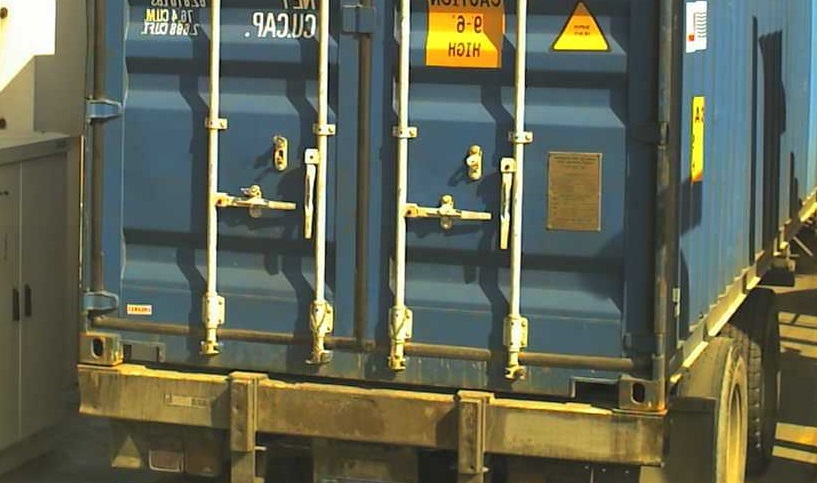container_door: (82, 1, 669, 404)
